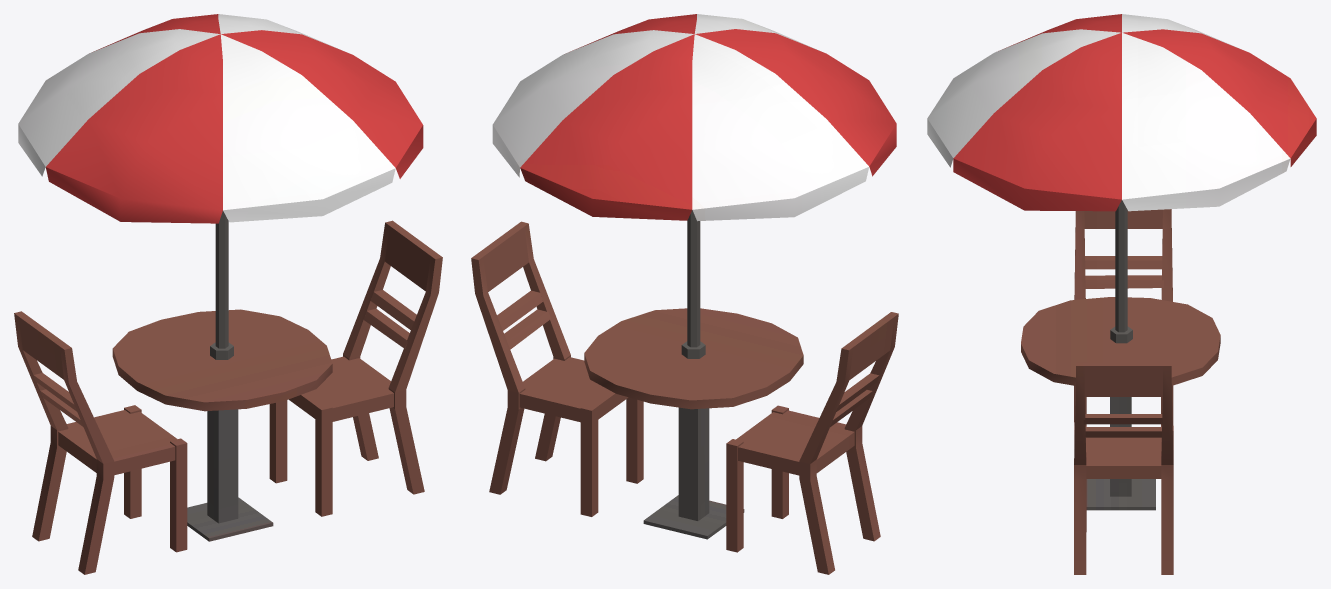
The model's file is Terras.fbx.
3 renders of one model, left to right at view 1: azimuth 30°, elevation 25°; view 2: azimuth 150°, elevation 25°; view 3: azimuth 270°, elevation 25°, orthographic. The views are drawn at different scales.
Parts seen in each view (by area): view 1: Terras; view 2: Terras; view 3: Terras.
Boxes of the visible parts, bbox=[...] form: Terras: bbox=[14, 14, 442, 574]; Terras: bbox=[471, 14, 898, 574]; Terras: bbox=[927, 14, 1316, 574].
Size of the model in its own units: 10.35 by 12.69 by 9.69.
1 material, 1 textured.
